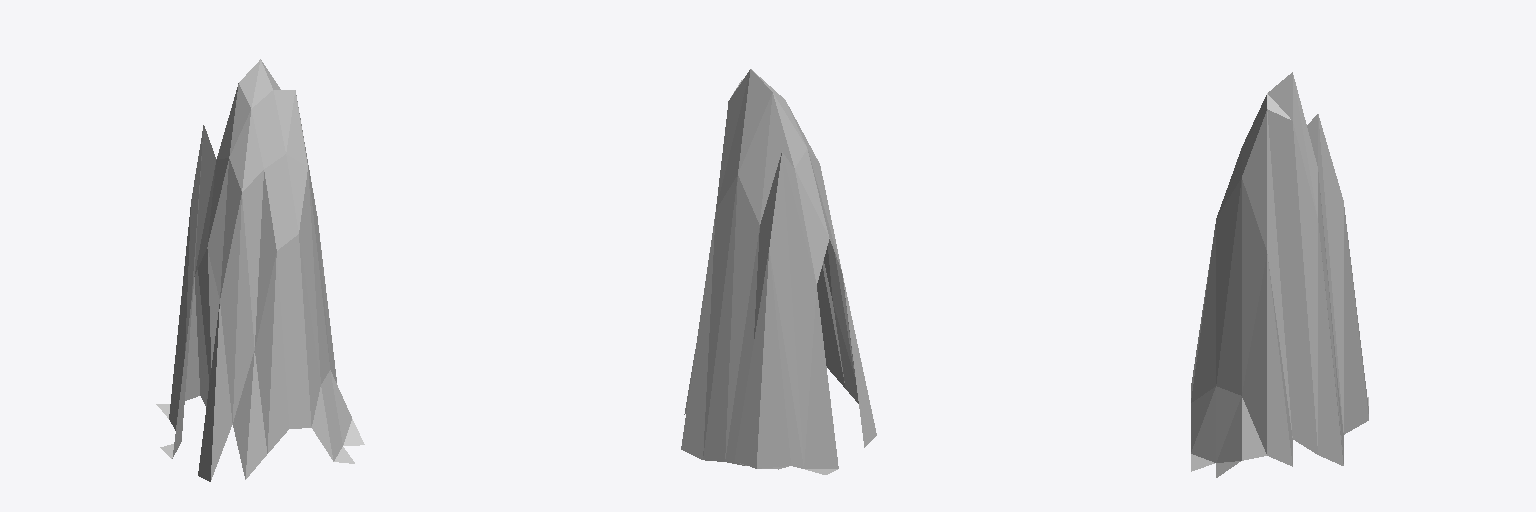
Rendered from tree_65.obj.
3 views of the same model, side by side, from view 1: azimuth 30°, elevation 25°; view 2: azimuth 150°, elevation 25°; view 3: azimuth 270°, elevation 25° (orthographic).
Parts seen in each view (by area): view 1: tree_65.001; view 2: tree_65.001; view 3: tree_65.001.
Part boxes in pixels (left/top/right/bottom): tree_65.001: left=156, top=59, right=364, bottom=481; tree_65.001: left=681, top=69, right=876, bottom=474; tree_65.001: left=1191, top=72, right=1368, bottom=477.
Size of the model in its own units: 7 by 16.4 by 7.